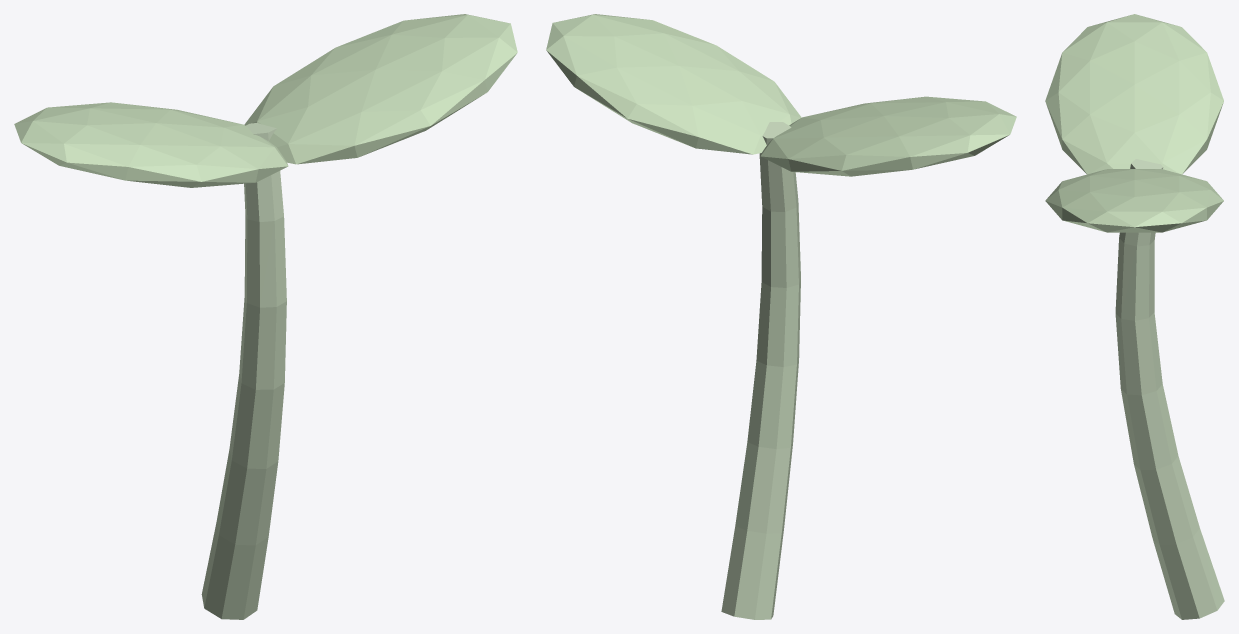
Rendered from sprout_dicot.glb.
3 renders of one model, left to right at view 1: azimuth 30°, elevation 25°; view 2: azimuth 150°, elevation 25°; view 3: azimuth 270°, elevation 25°, orthographic. The views are drawn at different scales.
Parts seen in each view (by area): view 1: cot1, stem, cot-1; view 2: cot1, stem, cot-1; view 3: cot-1, stem, cot1.
Part boxes in pixels (box(x1,y1,x2,y2)): cot1: box(244, 14, 517, 164); stem: box(201, 123, 286, 619); cot-1: box(14, 102, 288, 187); cot1: box(546, 14, 801, 154); stem: box(721, 122, 800, 619); cot-1: box(760, 96, 1016, 176); cot-1: box(1045, 14, 1223, 174); stem: box(1115, 159, 1224, 619); cot1: box(1045, 169, 1223, 232).
Size of the model in its own units: 0.031 by 0.0337 by 0.011.
